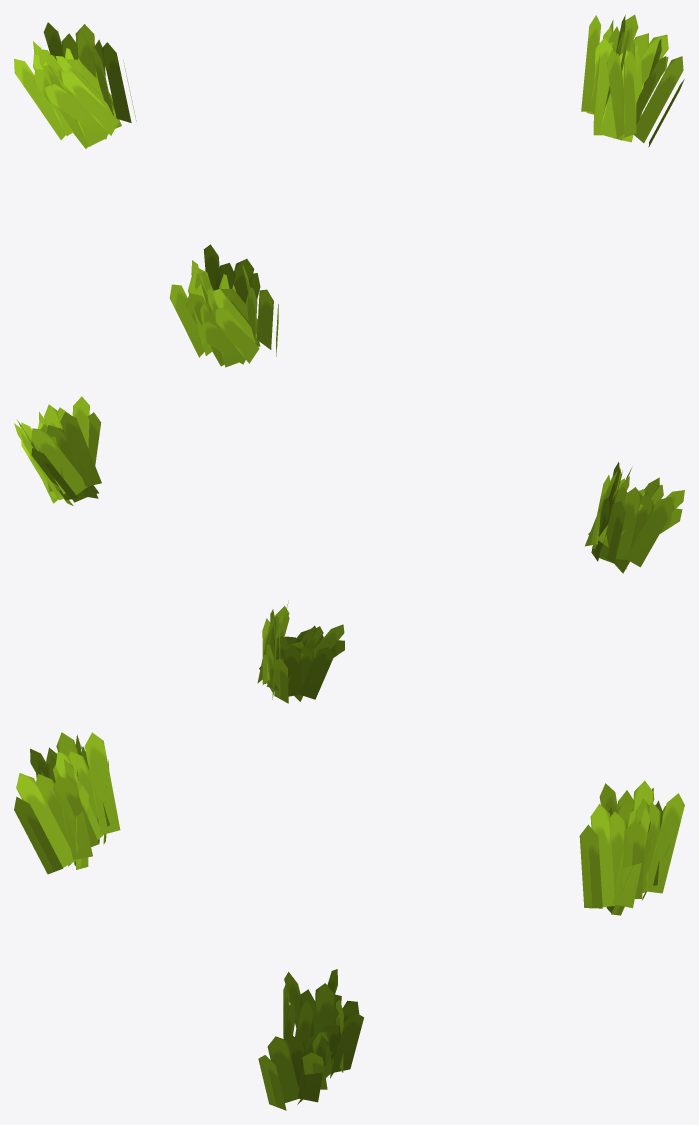
File: grassTile3.obj
The picture shows the model from 3 angles, top to bottom: view 1: azimuth 30°, elevation 25°; view 2: azimuth 150°, elevation 25°; view 3: azimuth 270°, elevation 25°; orthographic projection. The views are drawn at different scales.
Visible parts, largest first — view 1: GrassTile3_Plane.014; view 2: GrassTile3_Plane.014; view 3: GrassTile3_Plane.014.
Boxes of the visible parts, x1,y1,x2,y2 form: GrassTile3_Plane.014: [14, 14, 684, 367]; GrassTile3_Plane.014: [14, 396, 684, 703]; GrassTile3_Plane.014: [14, 732, 684, 1110].
Size of the model in its own units: 3.51 by 0.7918 by 3.09.
